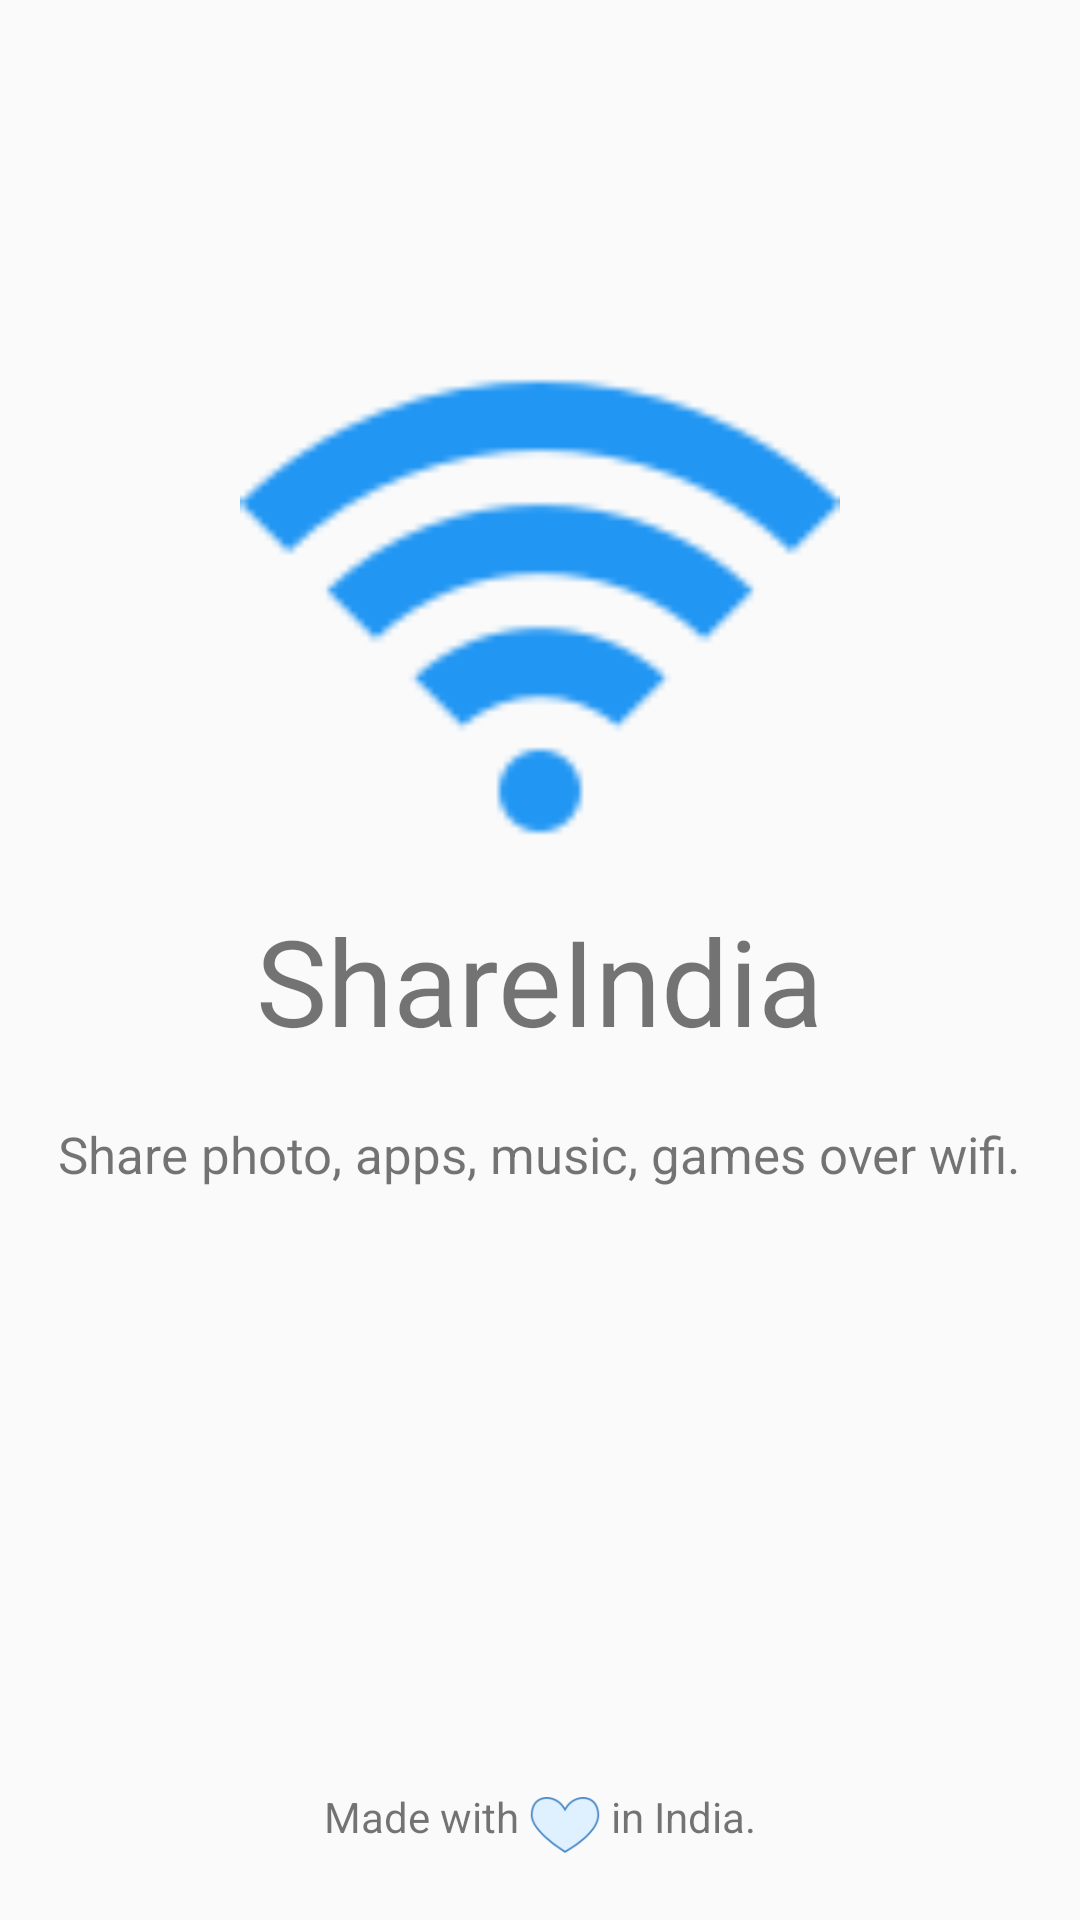

Screen size 1080 x 1920. Icon name, then its box in pixels as box(x1, y1, x2, y2):
heart: box(530, 1797, 600, 1853)
